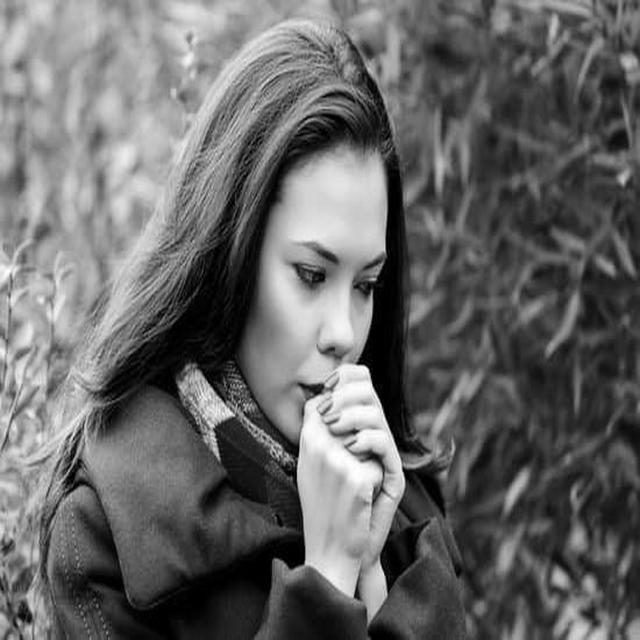Sadness: (283, 154, 387, 432)
